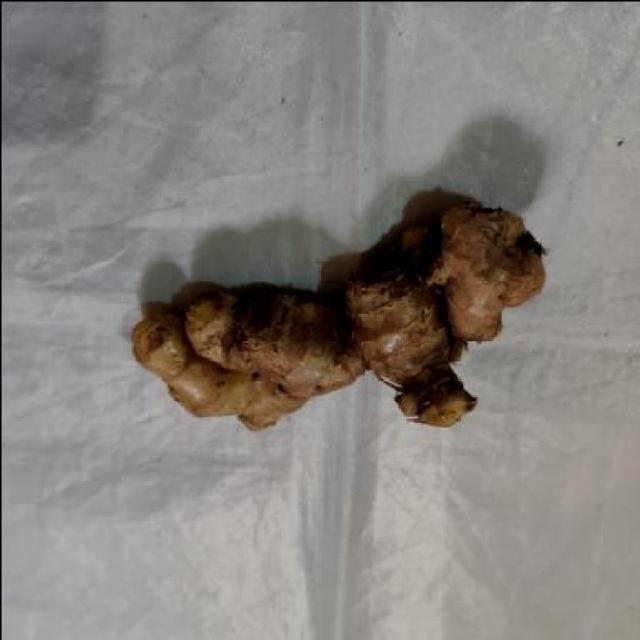Ginger: (123, 160, 562, 486)
